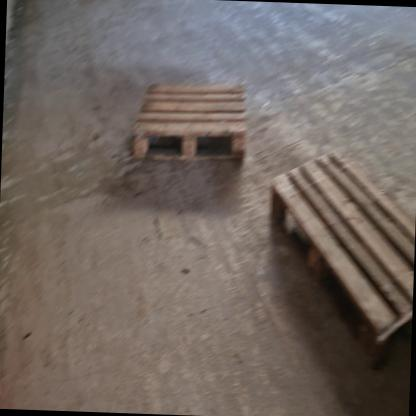BoxFace: (267, 142, 416, 371), (131, 83, 247, 161)
